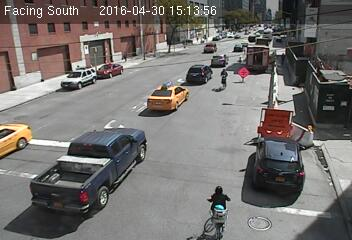neg: (197, 179, 240, 237), (214, 66, 231, 88)
pos: (119, 50, 129, 63)
